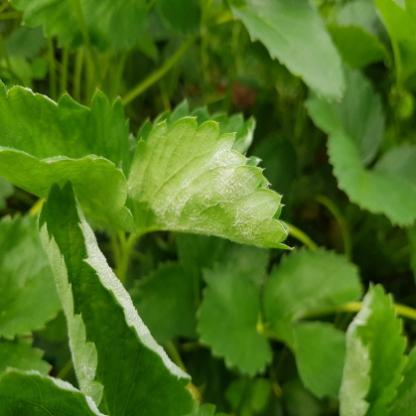Strawberry_Powdery_Mildew_Leaf: (36, 179, 198, 415), (124, 115, 296, 251), (0, 78, 138, 235), (338, 282, 409, 416), (0, 365, 104, 415)
